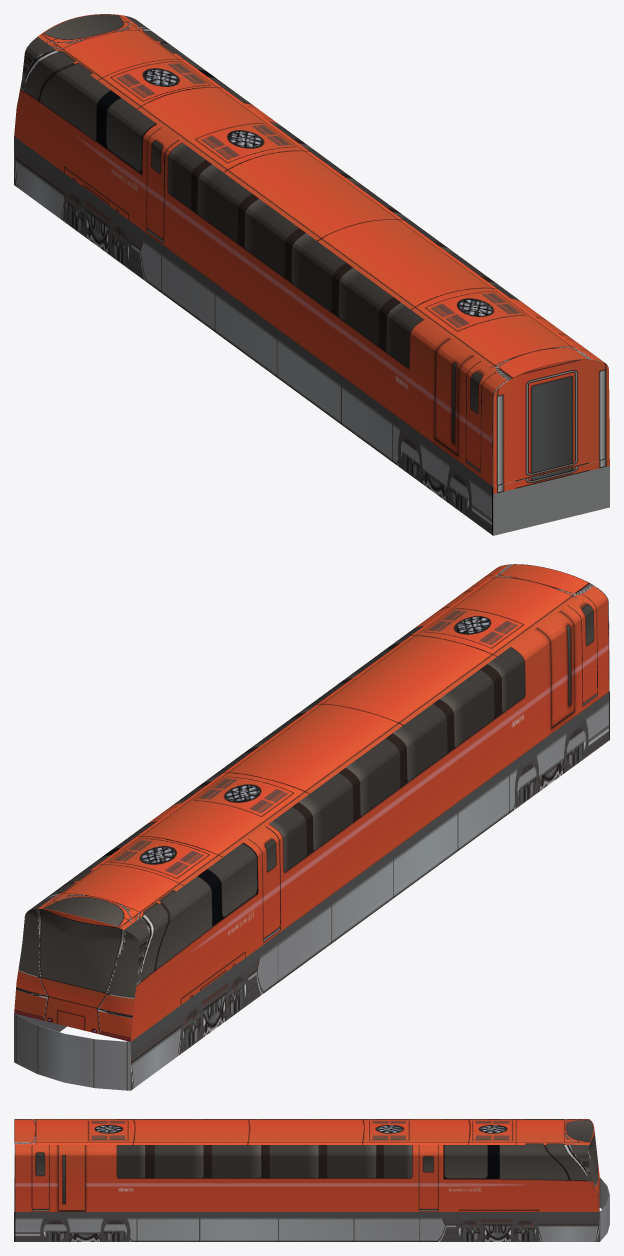
File: car2.glb
3 views of the same model, one above another, from view 1: azimuth 30°, elevation 25°; view 2: azimuth 150°, elevation 25°; view 3: azimuth 270°, elevation 25° (orthographic). The views are drawn at different scales.
Parts seen in each view (by area): view 1: car2.glb; view 2: car2.glb; view 3: car2.glb.
Boxes of the visible parts, box(x1,y1,x2,y2) form: car2.glb: box(14, 14, 609, 535); car2.glb: box(14, 564, 609, 1090); car2.glb: box(14, 1119, 609, 1241).
Size of the model in its own units: 2.88 by 3.7 by 20.83.
9 materials, 8 textured.
